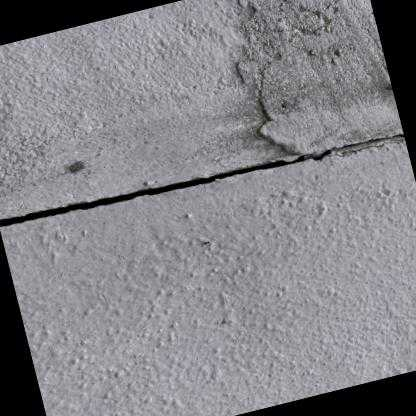crack: (0, 132, 406, 227)
